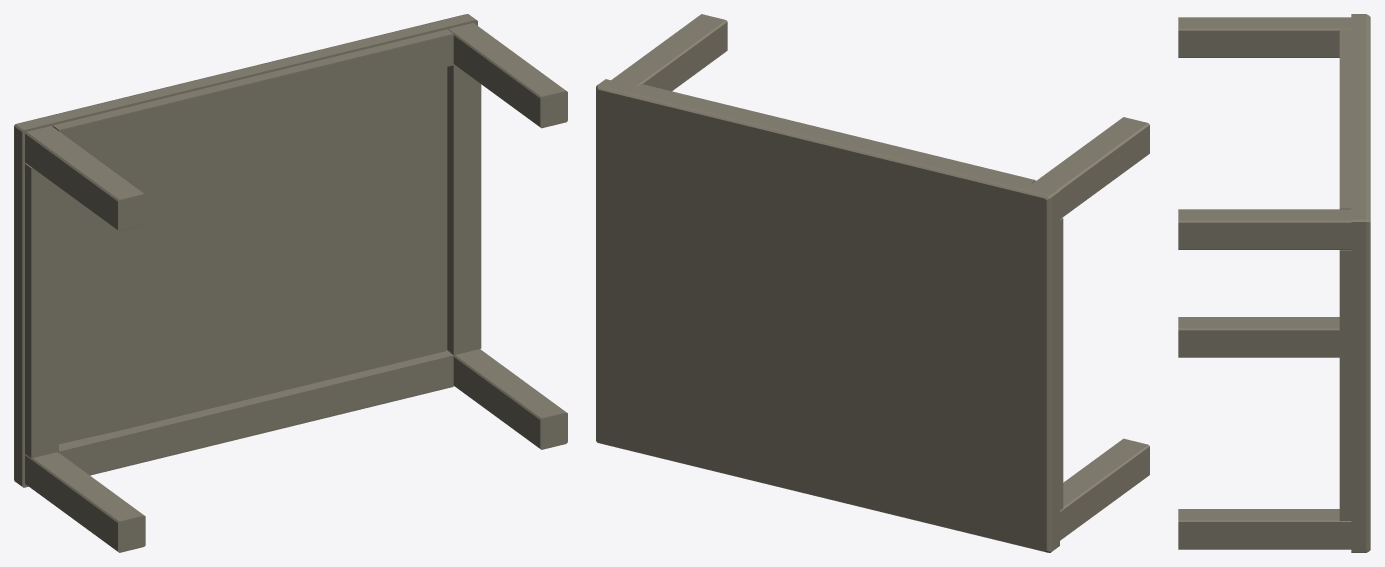
File: Table.fbx
The picture shows the model from 3 angles, left to right: view 1: azimuth 30°, elevation 25°; view 2: azimuth 150°, elevation 25°; view 3: azimuth 270°, elevation 25°; orthographic projection. The views are drawn at different scales.
Parts seen in each view (by area): view 1: Table; view 2: Table; view 3: Table.
Boxes of the visible parts, bbox=[...] form: Table: bbox=[14, 14, 567, 552]; Table: bbox=[596, 14, 1149, 552]; Table: bbox=[1178, 14, 1370, 552].
Size of the model in its own units: 0.7956 by 1.52 by 2.03.
